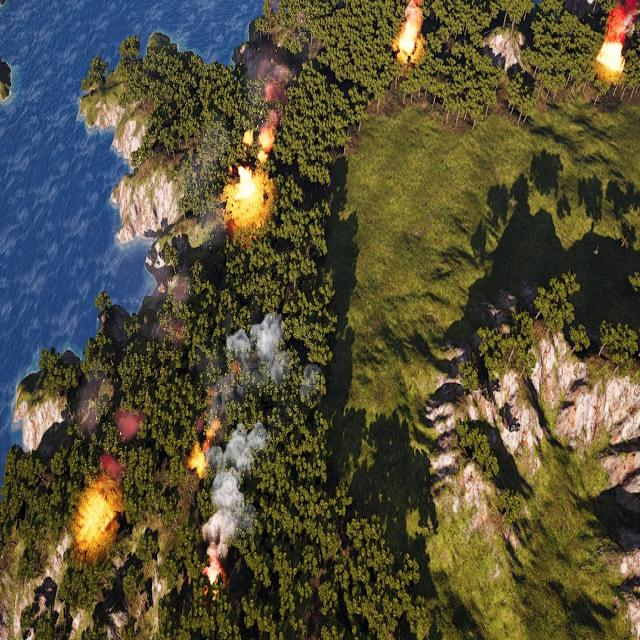fire: (224, 165, 264, 222), (77, 492, 116, 547), (394, 16, 421, 57), (596, 38, 624, 76), (187, 444, 208, 472), (258, 130, 274, 164), (205, 560, 223, 586), (241, 126, 254, 147)
smoke: (198, 315, 325, 568), (240, 34, 288, 128), (606, 0, 640, 38), (94, 452, 125, 488), (116, 408, 144, 439)
